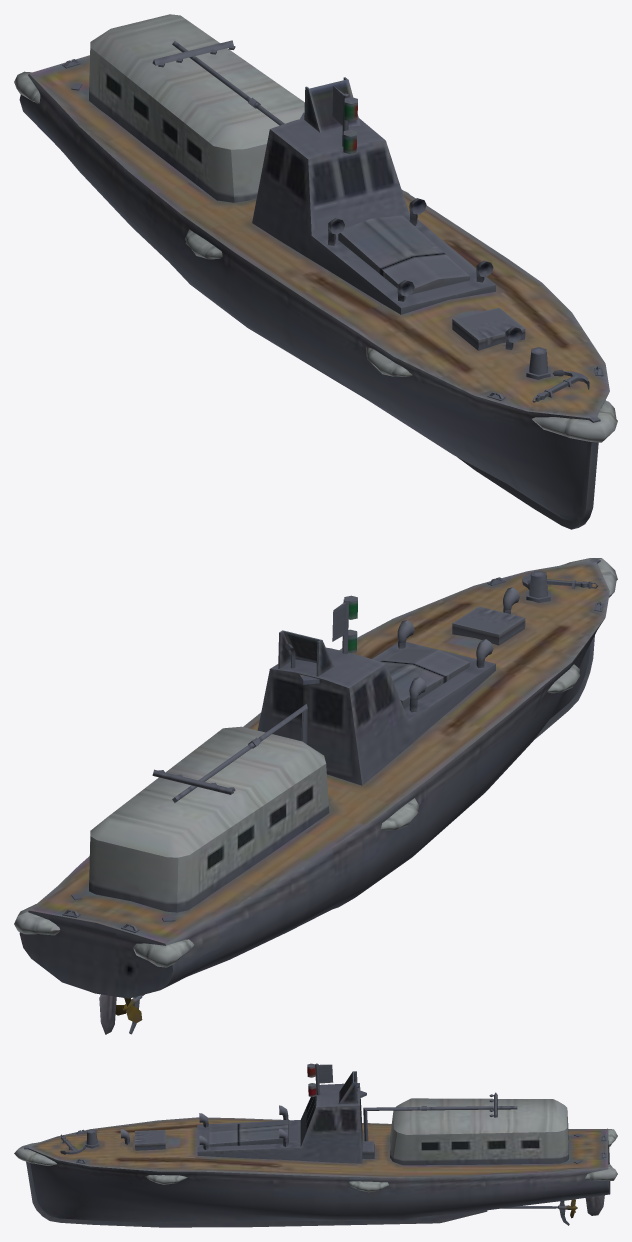
File: jiaotongchuang.obj
The picture shows the model from 3 angles, top to bottom: view 1: azimuth 30°, elevation 25°; view 2: azimuth 150°, elevation 25°; view 3: azimuth 270°, elevation 25°; orthographic projection. The views are drawn at different scales.
Size of the model in its own units: 2.02 by 2.46 by 8.28.
